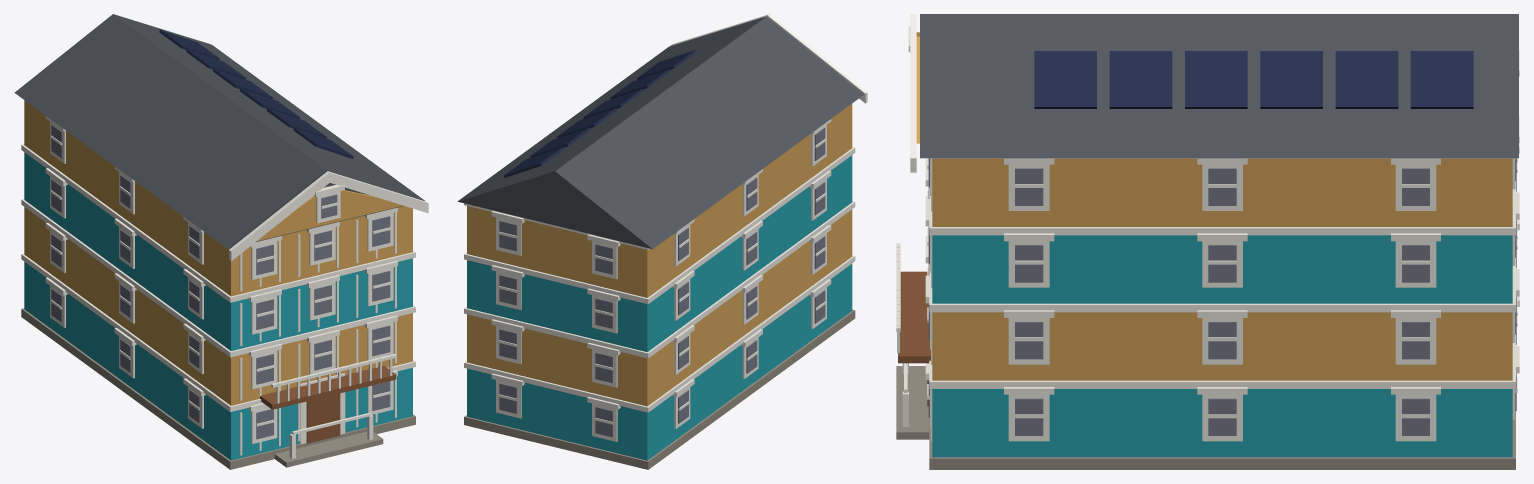
File: house-1x2-4f-valparaiso-a-solar.glb
3 views of the same model, side by side, from view 1: azimuth 30°, elevation 25°; view 2: azimuth 150°, elevation 25°; view 3: azimuth 270°, elevation 25° (orthographic). The views are drawn at different scales.
Visible parts, largest first — view 1: house-1x2-4f-valparaiso-a-solar; view 2: house-1x2-4f-valparaiso-a-solar; view 3: house-1x2-4f-valparaiso-a-solar.
Part boxes in pixels (x1,y1,x2,y2): house-1x2-4f-valparaiso-a-solar: (14, 14, 428, 469); house-1x2-4f-valparaiso-a-solar: (457, 14, 867, 469); house-1x2-4f-valparaiso-a-solar: (896, 14, 1519, 469).
Bounding box in the file's own units: 1.02 × 1.38 × 1.99.
1 material, 1 textured.
